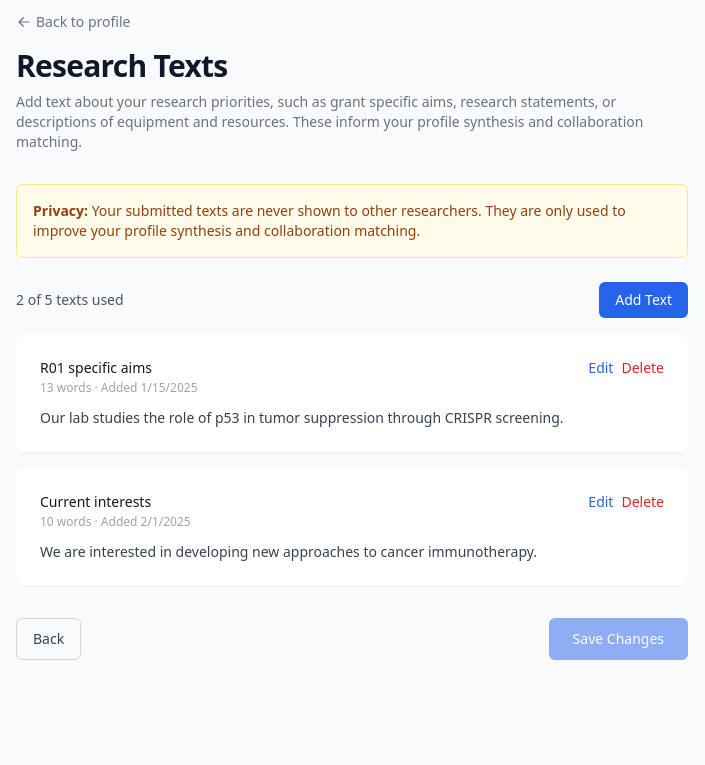
SubmittedTextsPage › can edit an existing text
expect the heading "R01 specific aims" is shown: met, box 40,358 -> 152,377
Note: Click edit on first entry
Click the button with test id "edit-button-0" at [601, 368], box 588,358 -> 614,378
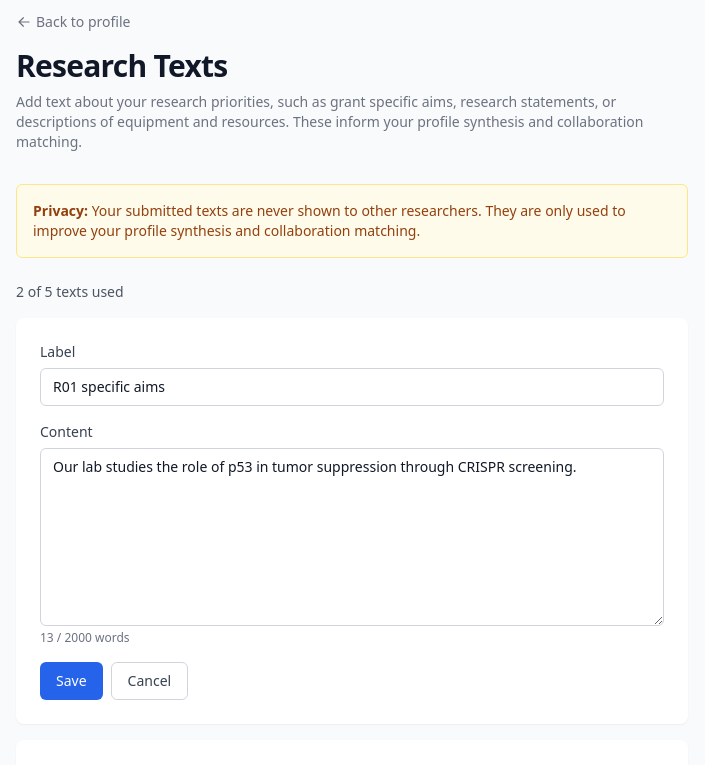
Note: Edit label
Replace the text in the field with test id "edit-label" with "Updated aims" at [352, 387], box 40,368 -> 664,406
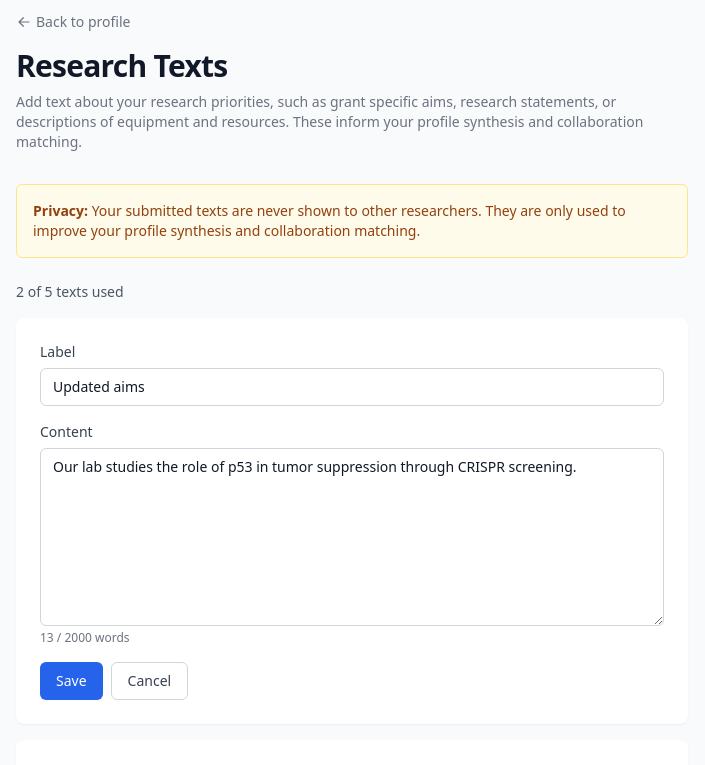
Click the button "Save" at [71, 681], box 40,662 -> 103,700
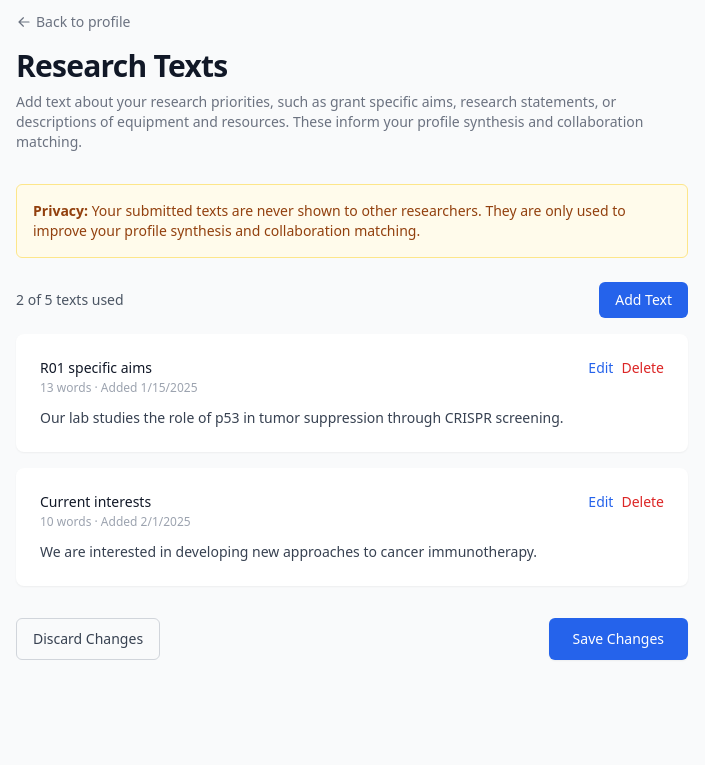
expect the heading "Updated aims" is shown: met, box 40,358 -> 152,377
